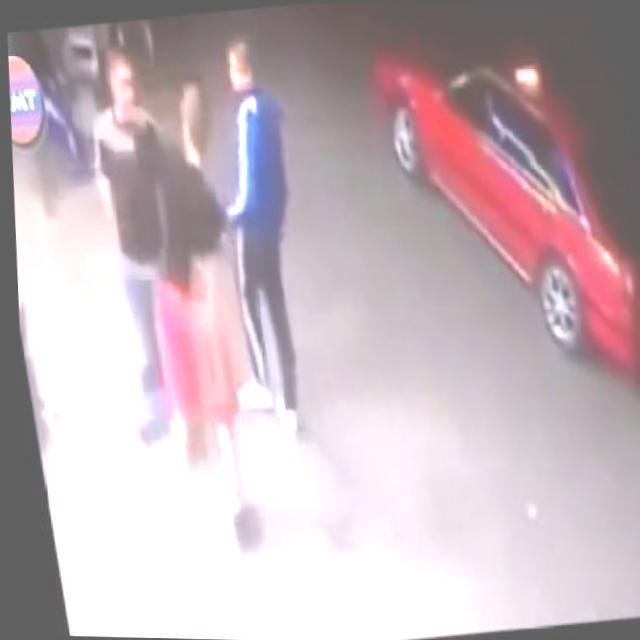fight: (68, 38, 284, 570)
